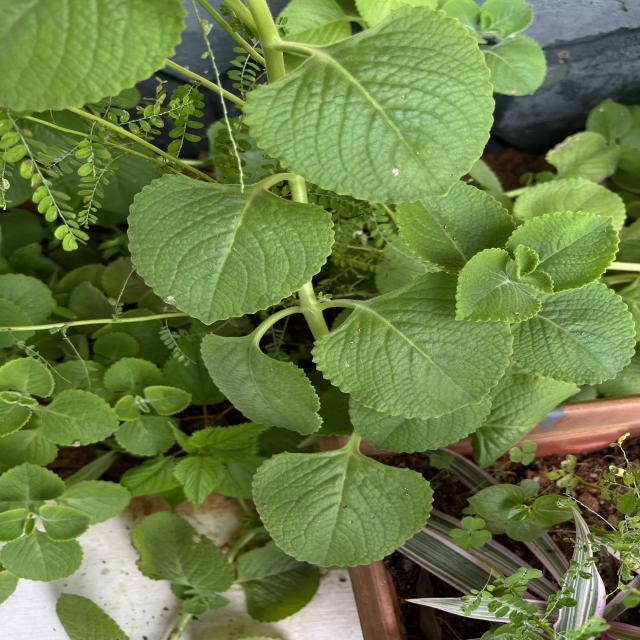Plectranthus barbatus: (240, 1, 498, 206), (125, 171, 336, 327), (310, 270, 516, 420), (248, 448, 436, 569), (198, 332, 324, 437), (504, 210, 620, 295), (452, 247, 542, 324), (38, 389, 120, 448), (1, 532, 85, 582), (0, 460, 69, 502), (115, 414, 178, 456), (0, 356, 56, 398), (39, 503, 93, 543), (102, 355, 166, 388), (144, 384, 194, 418)
